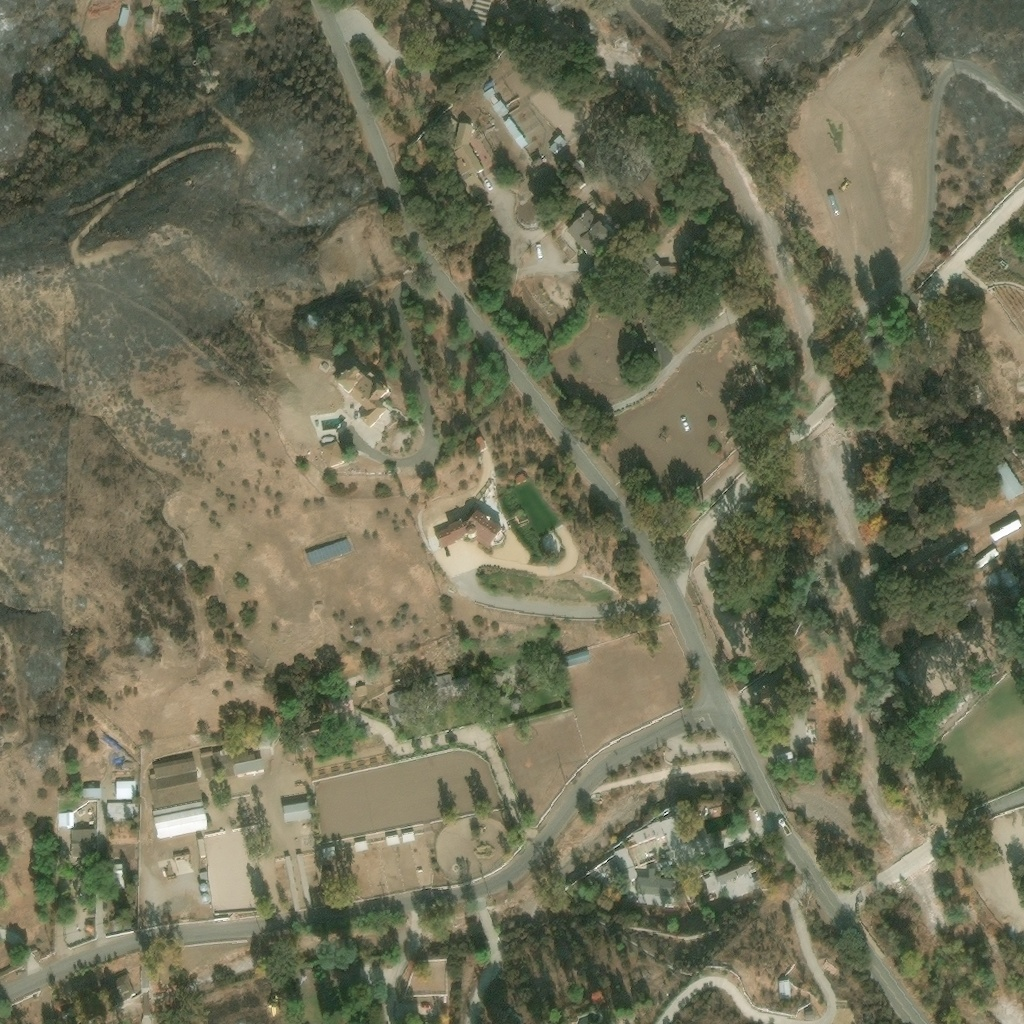0 no-damage: (388, 673, 467, 729), (433, 510, 508, 553), (336, 366, 386, 428), (149, 755, 203, 811), (449, 122, 487, 195), (567, 209, 616, 257), (705, 862, 763, 901), (153, 803, 209, 840), (633, 818, 684, 853), (304, 538, 354, 567), (990, 459, 1023, 502), (637, 869, 676, 905), (633, 250, 671, 283), (102, 974, 136, 1003), (720, 824, 754, 850), (503, 119, 530, 150), (483, 88, 509, 120), (614, 848, 638, 881), (320, 442, 347, 469), (233, 758, 266, 779), (72, 830, 96, 858), (281, 803, 312, 824), (305, 315, 339, 333), (975, 547, 1000, 570), (758, 681, 782, 703), (566, 650, 592, 668), (108, 803, 137, 819), (116, 781, 138, 801), (549, 135, 566, 157), (82, 784, 102, 800), (114, 863, 125, 890), (118, 7, 132, 28), (779, 981, 793, 1000), (530, 154, 545, 169), (385, 834, 400, 848), (321, 846, 337, 859), (354, 840, 369, 853), (475, 436, 487, 452), (402, 831, 416, 844), (108, 920, 121, 934), (737, 373, 750, 387), (806, 724, 817, 740), (197, 840, 206, 859), (140, 0, 154, 11), (201, 751, 213, 759), (577, 180, 586, 190), (1016, 543, 1023, 555), (199, 873, 208, 882), (784, 752, 793, 761), (86, 925, 95, 934), (215, 750, 226, 757), (805, 1011, 814, 1016)
